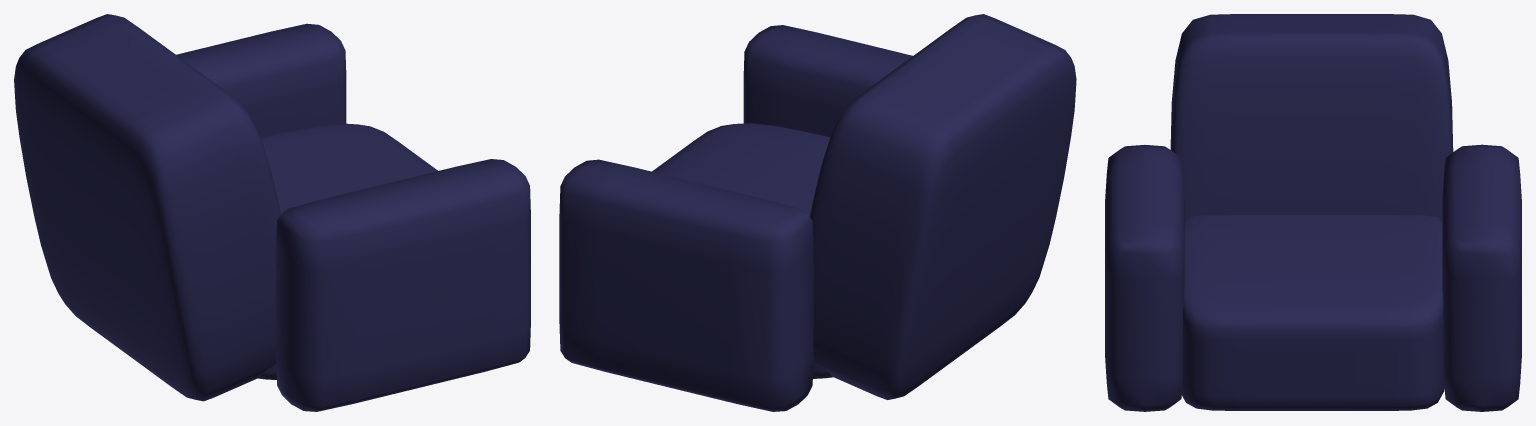
File: sofaJ.fbx
3 views of the same model, side by side, from view 1: azimuth 30°, elevation 25°; view 2: azimuth 150°, elevation 25°; view 3: azimuth 270°, elevation 25° (orthographic). The views are drawn at different scales.
Visible parts, largest first — view 1: Cube.003, Cube.002, Cube.001, Cube; view 2: Cube.003, Cube.001, Cube.002, Cube; view 3: Cube.003, Cube, Cube.001, Cube.002.
Boxes of the visible parts, x1=… form: Cube.003: x1=14, y1=14, x2=280, y2=401; Cube.002: x1=276, y1=159, x2=530, y2=411; Cube.001: x1=176, y1=23, x2=346, y2=136; Cube: x1=258, y1=123, x2=437, y2=379; Cube.003: x1=809, y1=14, x2=1076, y2=399; Cube.001: x1=559, y1=159, x2=813, y2=411; Cube.002: x1=743, y1=25, x2=912, y2=137; Cube: x1=652, y1=123, x2=832, y2=378; Cube.003: x1=1170, y1=14, x2=1453, y2=222; Cube: x1=1181, y1=215, x2=1444, y2=410; Cube.001: x1=1442, y1=144, x2=1521, y2=411; Cube.002: x1=1105, y1=145, x2=1184, y2=411.
Bounding box in the file's own units: 834 × 648 × 907.
